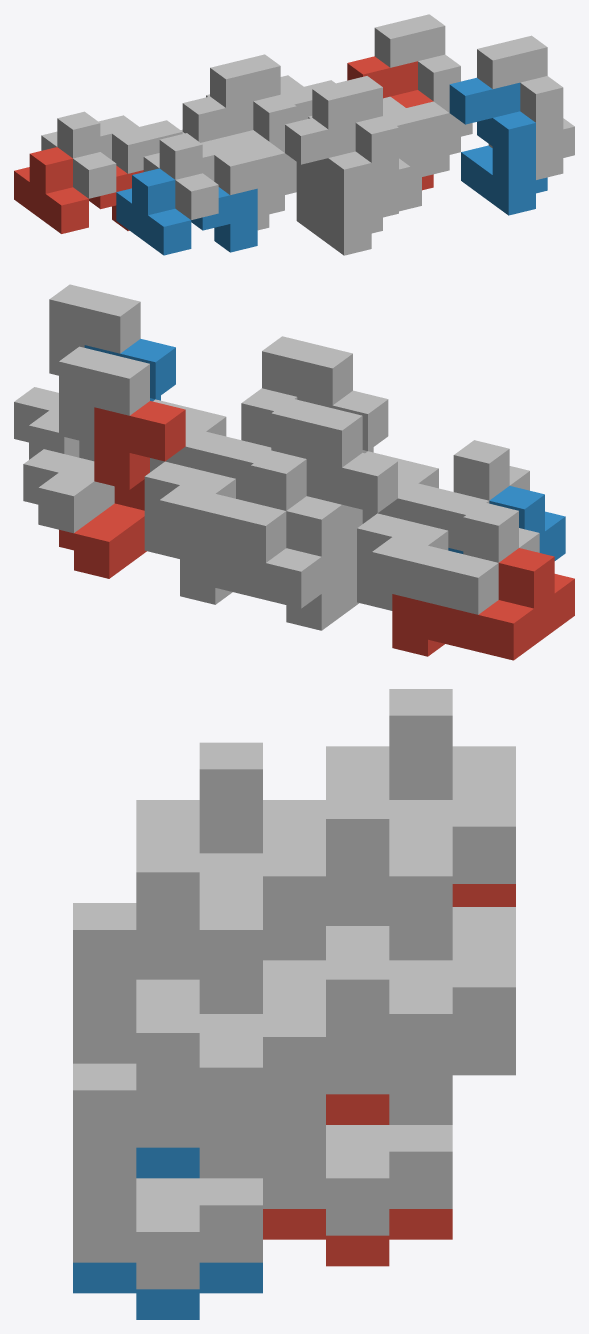
File: tiling.obj
3 renders of one model, top to bottom at view 1: azimuth 30°, elevation 25°; view 2: azimuth 150°, elevation 25°; view 3: azimuth 270°, elevation 25°, orthographic. The views are drawn at different scales.
Parts seen in each view (by area): view 1: copy_2_domain_6, copy_2_domain_2, copy_1_domain_4, copy_1_domain_2, copy_2_domain_4, copy_2_domain_8, copy_1_domain_3, copy_1_domain_1, copy_2_domain_7, copy_2_domain_3, copy_1_domain_8, copy_2_domain_1 (+3 smaller); view 2: copy_1_domain_3, copy_1_domain_7, copy_2_domain_7, copy_1_domain_1, copy_2_domain_5, copy_1_domain_5, copy_2_domain_8, copy_1_domain_4, copy_2_domain_1, copy_1_domain_8, copy_2_domain_3, copy_2_domain_4 (+3 smaller); view 3: copy_2_domain_8, copy_2_domain_7, copy_1_domain_7, copy_1_domain_8, copy_2_domain_4, copy_1_domain_3, copy_2_domain_3, copy_1_domain_4, copy_2_domain_6, copy_2_domain_5, copy_1_domain_5, copy_1_domain_1.
Part boxes in pixels (x1,y1,x2,y2): copy_2_domain_6: (449, 77, 547, 215); copy_2_domain_2: (285, 118, 382, 255); copy_1_domain_4: (143, 133, 284, 219); copy_1_domain_2: (116, 168, 257, 255); copy_2_domain_4: (312, 76, 410, 219); copy_2_domain_8: (477, 35, 574, 179); copy_1_domain_3: (41, 111, 182, 198); copy_1_domain_1: (14, 147, 143, 233); copy_2_domain_7: (374, 14, 472, 154); copy_2_domain_3: (210, 54, 296, 194); copy_1_domain_8: (308, 96, 449, 176); copy_2_domain_1: (182, 96, 269, 230); copy_1_domain_3: (357, 502, 539, 614); copy_1_domain_7: (144, 450, 306, 562); copy_2_domain_7: (23, 346, 149, 533); copy_1_domain_1: (392, 548, 574, 660); copy_2_domain_5: (59, 401, 185, 578); copy_1_domain_5: (180, 496, 356, 608); copy_2_domain_8: (14, 284, 140, 459); copy_1_domain_4: (362, 440, 529, 551); copy_2_domain_1: (286, 452, 397, 630); copy_1_domain_8: (150, 388, 297, 499); copy_2_domain_3: (271, 398, 362, 467); copy_2_domain_4: (262, 336, 352, 405); copy_2_domain_8: (73, 979, 262, 1289); copy_2_domain_7: (263, 926, 452, 1235); copy_1_domain_7: (389, 849, 515, 1124); copy_1_domain_8: (199, 903, 325, 1178); copy_2_domain_4: (73, 819, 199, 1063); copy_1_domain_3: (326, 689, 515, 883); copy_2_domain_3: (263, 765, 389, 960); copy_1_domain_4: (136, 742, 325, 902); copy_2_domain_6: (73, 1147, 262, 1319); copy_2_domain_5: (263, 1094, 452, 1266); copy_1_domain_5: (452, 1044, 515, 1075); copy_1_domain_1: (452, 884, 515, 906).
Bounding box in the file's own units: 17 × 5 × 7.
